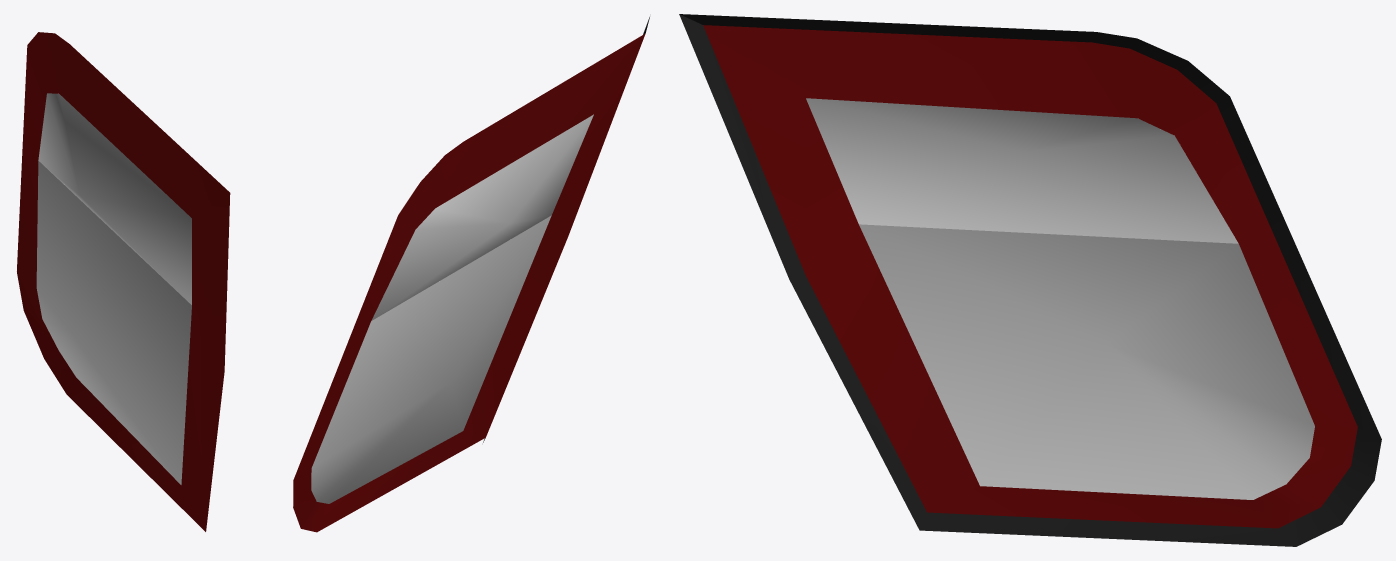
3 renders of one model, left to right at view 1: azimuth 30°, elevation 25°; view 2: azimuth 150°, elevation 25°; view 3: azimuth 270°, elevation 25°, orthographic. The views are drawn at different scales.
Visible parts, largest first — view 1: SubMesh0009; view 2: SubMesh0009; view 3: SubMesh0009.
Part boxes in pixels (x1=…): SubMesh0009: x1=17, y1=32, x2=230, y2=531; SubMesh0009: x1=293, y1=17, x2=649, y2=532; SubMesh0009: x1=679, y1=14, x2=1381, y2=546.
Bounding box in the file's own units: 0.0348 × 0.1184 × 0.1597.
